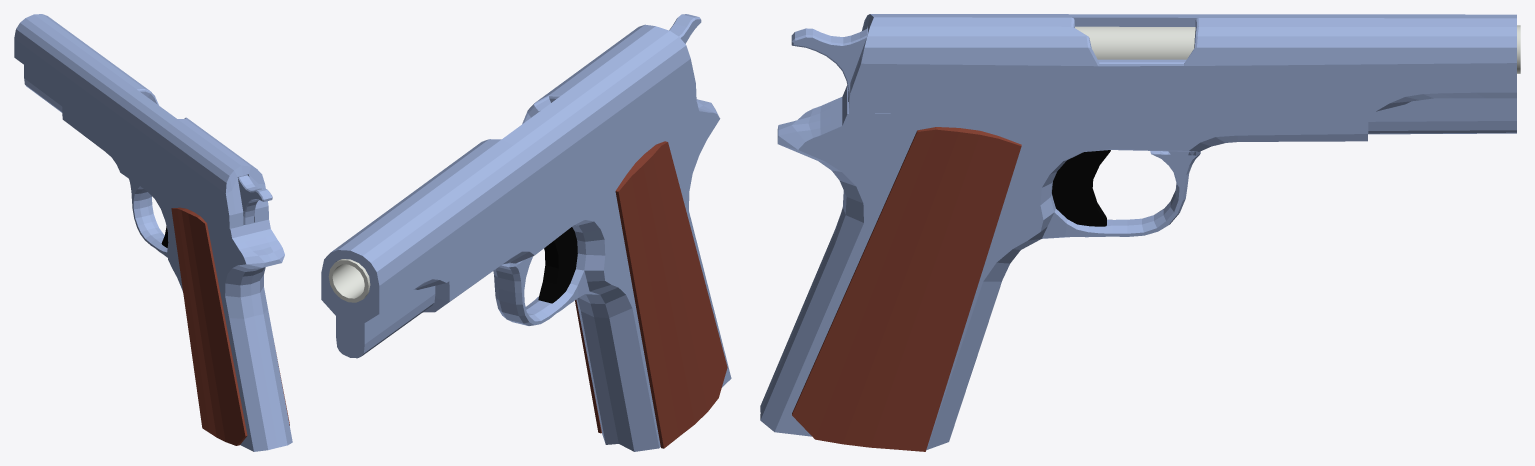
The model's file is colt_1911.fbx.
The picture shows the model from 3 angles, left to right: view 1: azimuth 30°, elevation 25°; view 2: azimuth 150°, elevation 25°; view 3: azimuth 270°, elevation 25°; orthographic projection. The views are drawn at different scales.
Visible parts, largest first — view 1: Slide, Body, Grip, Trigger guard, Hammer; view 2: Slide, Body, Grip, Trigger guard, Trigger, Barrel, Hammer; view 3: Slide, Body, Grip, Barrel, Trigger guard, Trigger, Hammer.
Boxes of the visible parts, x1,y1,x2,y2 form: Slide: (14, 14, 268, 228); Body: (62, 105, 292, 451); Grip: (171, 207, 289, 445); Trigger guard: (129, 179, 167, 257); Hammer: (237, 175, 272, 224); Slide: (321, 24, 696, 358); Body: (423, 99, 731, 451); Grip: (575, 141, 727, 448); Trigger guard: (493, 256, 589, 325); Trigger: (538, 227, 577, 303); Barrel: (328, 259, 370, 302); Hammer: (669, 14, 701, 43); Slide: (848, 14, 1516, 134); Body: (760, 85, 1368, 449); Grip: (792, 127, 1021, 451); Barrel: (1075, 25, 1520, 73); Trigger guard: (1042, 151, 1200, 238); Trigger: (1052, 150, 1110, 226); Hammer: (791, 28, 867, 101).
Size of the model in its own units: 57.31 by 288 by 475.
